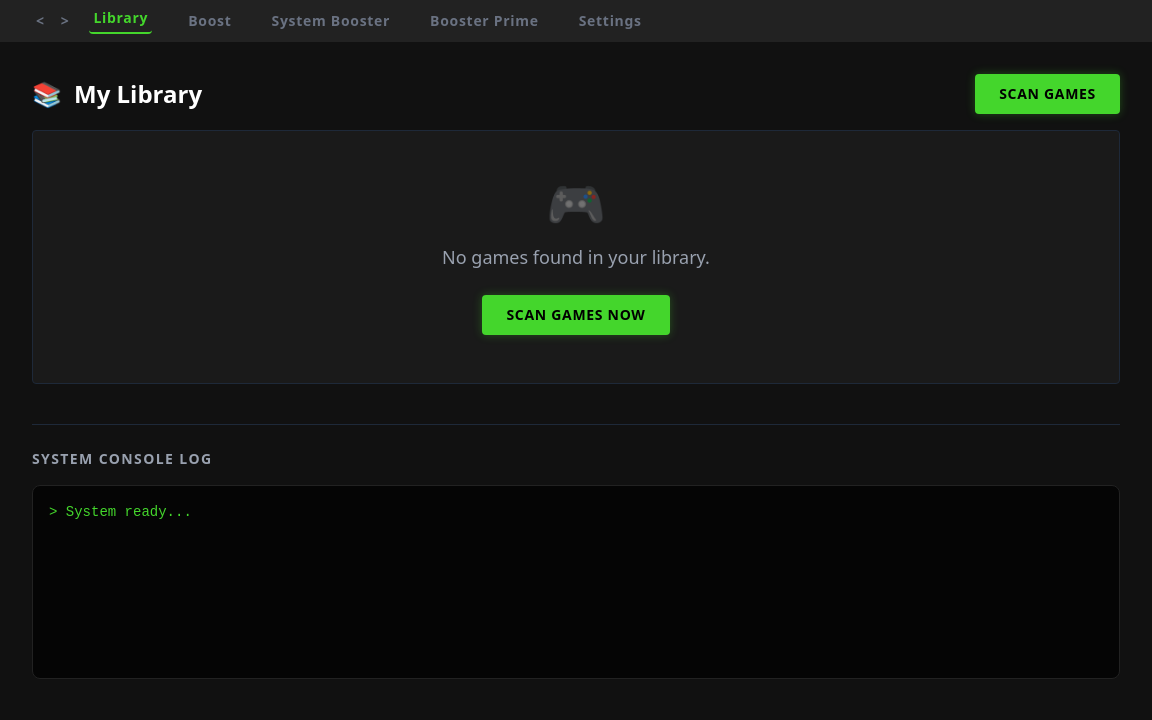
Test: App › handleCleanSystem › handles network/backend error (window.eel)
Step 1. Click the tab "System Booster" → (331, 21), box [268,11,394,31]
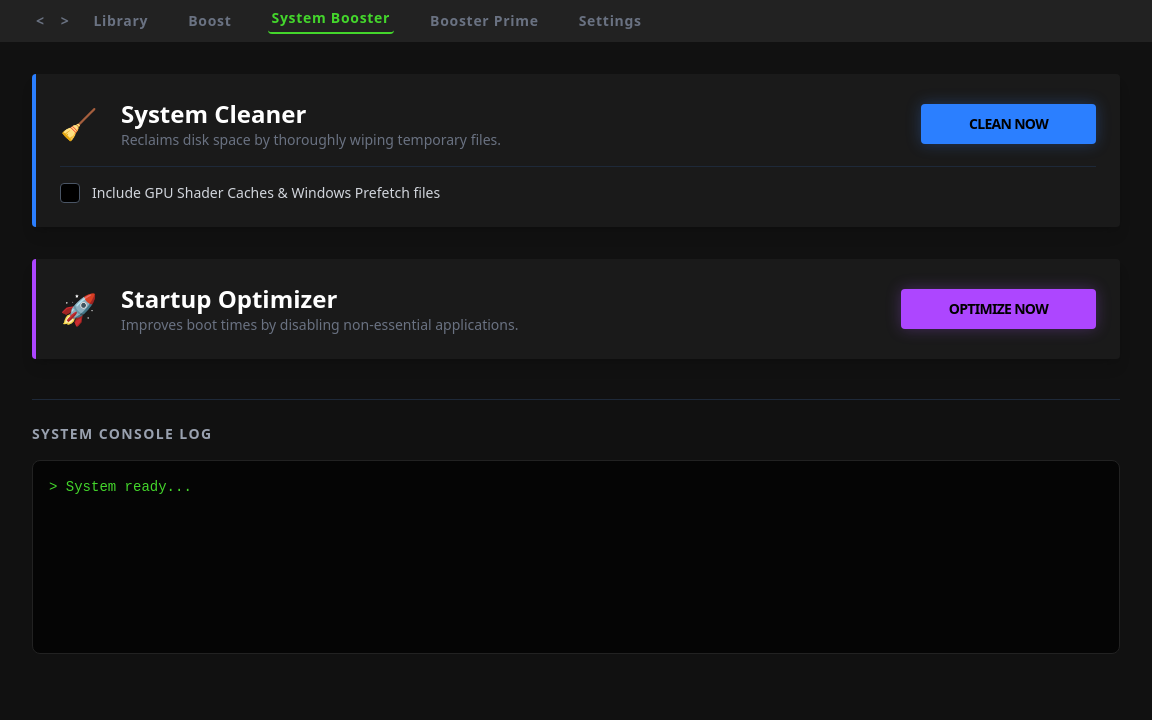
Step 2. Click the button "Clean Now" → (1008, 124), box [921,104,1096,144]
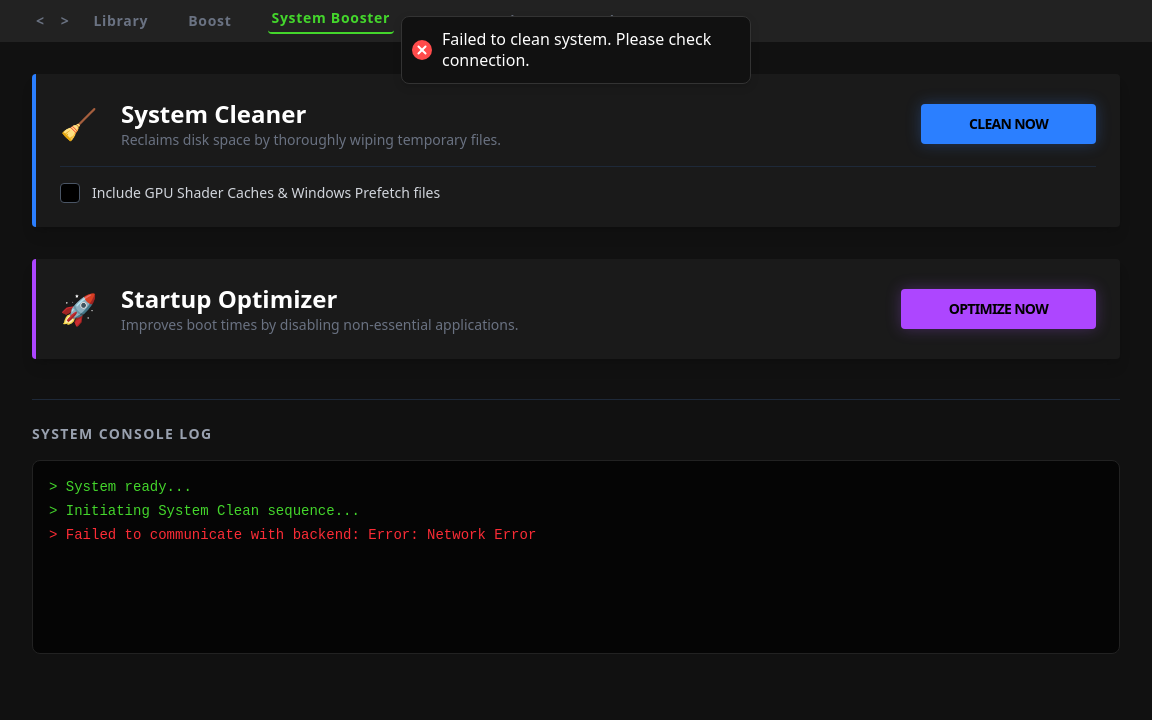
Now the text "> Failed to communicate with backend: Error: Network Error" is shown, box [49,527,536,543]
